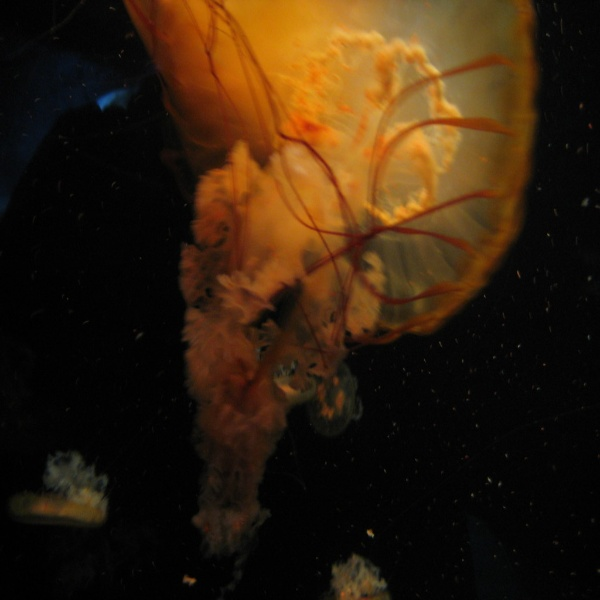Jellyfish: (155, 0, 576, 511)
